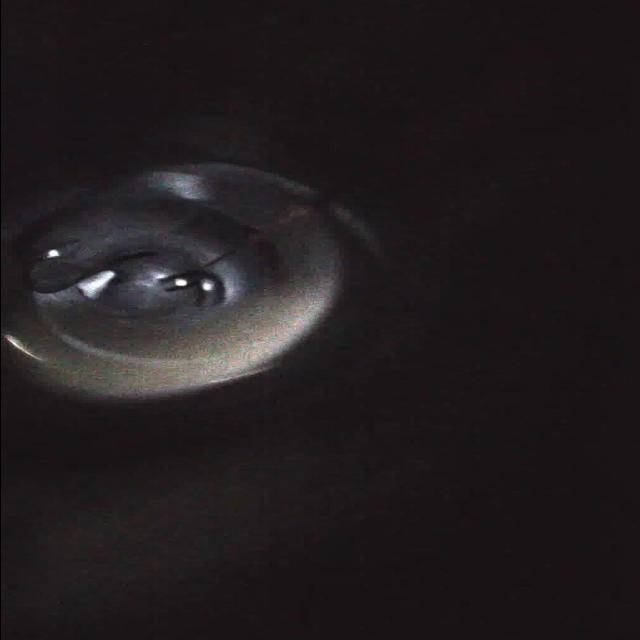impurity: (20, 256, 80, 298), (78, 259, 116, 301)
